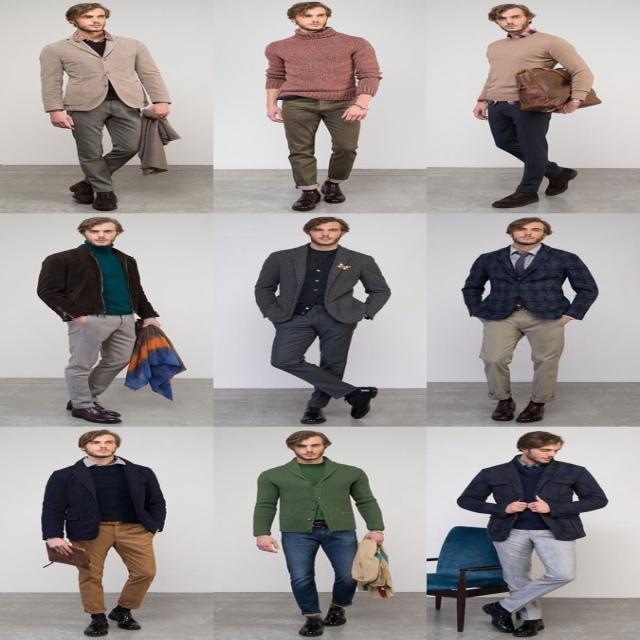person: (456, 431, 609, 637), (38, 3, 179, 211), (254, 216, 392, 424), (461, 217, 599, 422), (252, 431, 386, 636), (471, 3, 602, 208), (35, 216, 161, 424), (40, 430, 167, 636), (264, 1, 382, 211)
